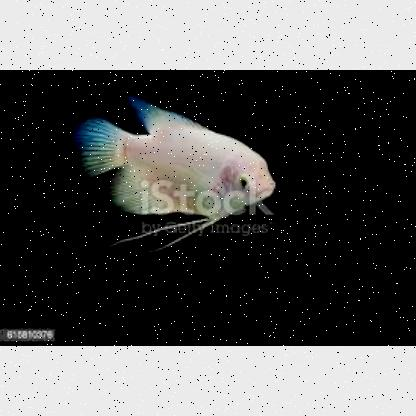gurame: (83, 100, 287, 238)
